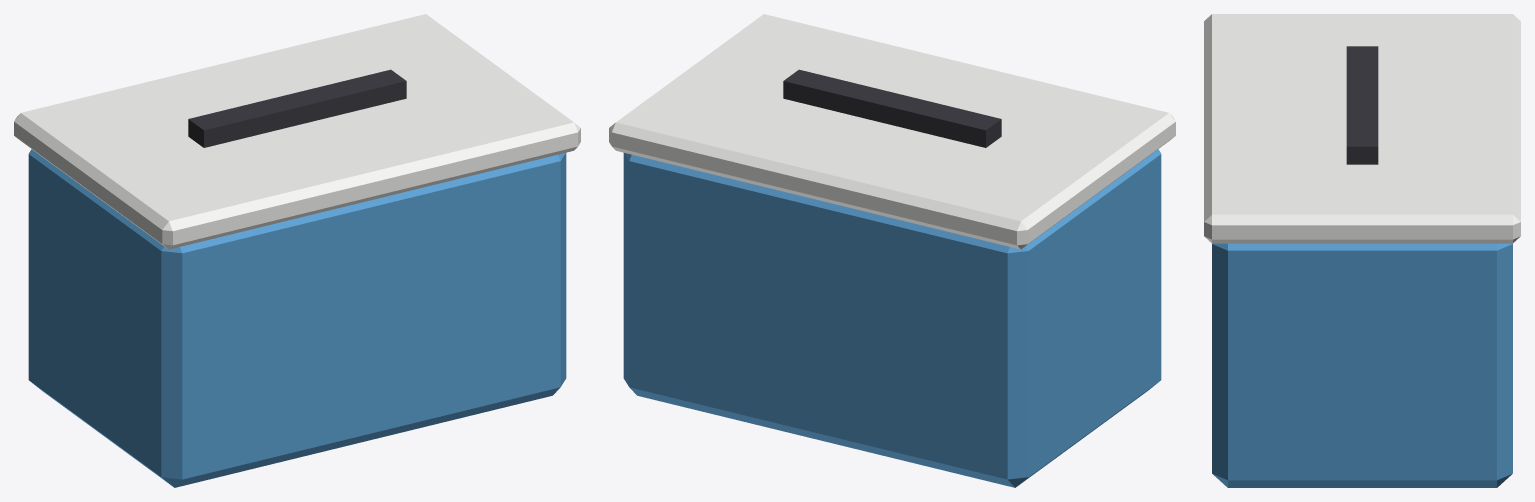
File: sm_container_cooler.glb
3 views of the same model, side by side, from view 1: azimuth 30°, elevation 25°; view 2: azimuth 150°, elevation 25°; view 3: azimuth 270°, elevation 25° (orthographic).
Visible parts, largest first — view 1: cooler, cooler_lid, cooler_handle; view 2: cooler, cooler_lid, cooler_handle; view 3: cooler, cooler_lid, cooler_handle.
Part boxes in pixels (x1,y1,x2,y2): cooler: (28, 149, 566, 487); cooler_lid: (14, 14, 580, 249); cooler_handle: (188, 69, 406, 147); cooler: (623, 149, 1161, 487); cooler_lid: (609, 14, 1175, 249); cooler_handle: (783, 69, 1001, 147); cooler: (1212, 243, 1512, 487); cooler_lid: (1204, 14, 1520, 243); cooler_handle: (1346, 46, 1378, 164).
Size of what is drawn, in the model's own units: 0.62 by 0.415 by 0.4.
